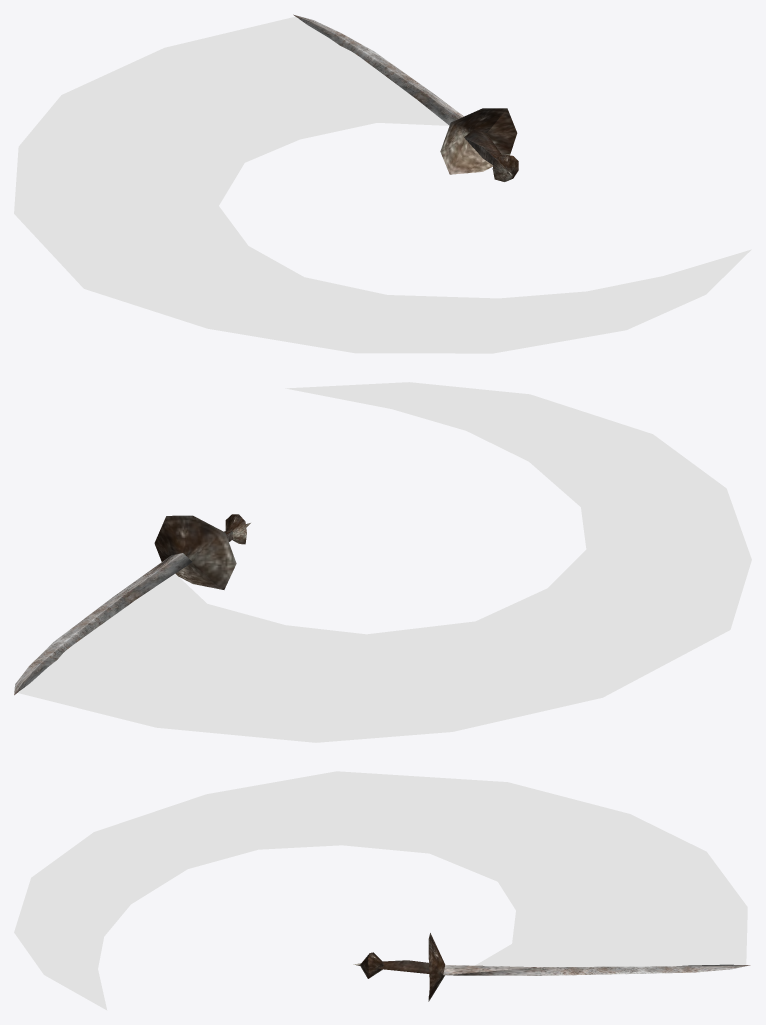
Rendered from cutlass_rusty_high.fbx.
The picture shows the model from 3 angles, top to bottom: view 1: azimuth 30°, elevation 25°; view 2: azimuth 150°, elevation 25°; view 3: azimuth 270°, elevation 25°; orthographic projection. The views are drawn at different scales.
Visible parts, largest first — view 1: motion_blur, cutlass_mesh; view 2: motion_blur, cutlass_mesh; view 3: motion_blur, cutlass_mesh.
Part boxes in pixels (x1,y1,x2,y2): motion_blur: [14, 16, 751, 353]; cutlass_mesh: [293, 14, 518, 181]; motion_blur: [18, 382, 751, 742]; cutlass_mesh: [14, 514, 250, 695]; motion_blur: [14, 771, 747, 1010]; cutlass_mesh: [353, 933, 750, 1001].
Bounding box in the file's own units: 396 × 44.59 × 516.
Materials: 2 (2 with a texture image).
